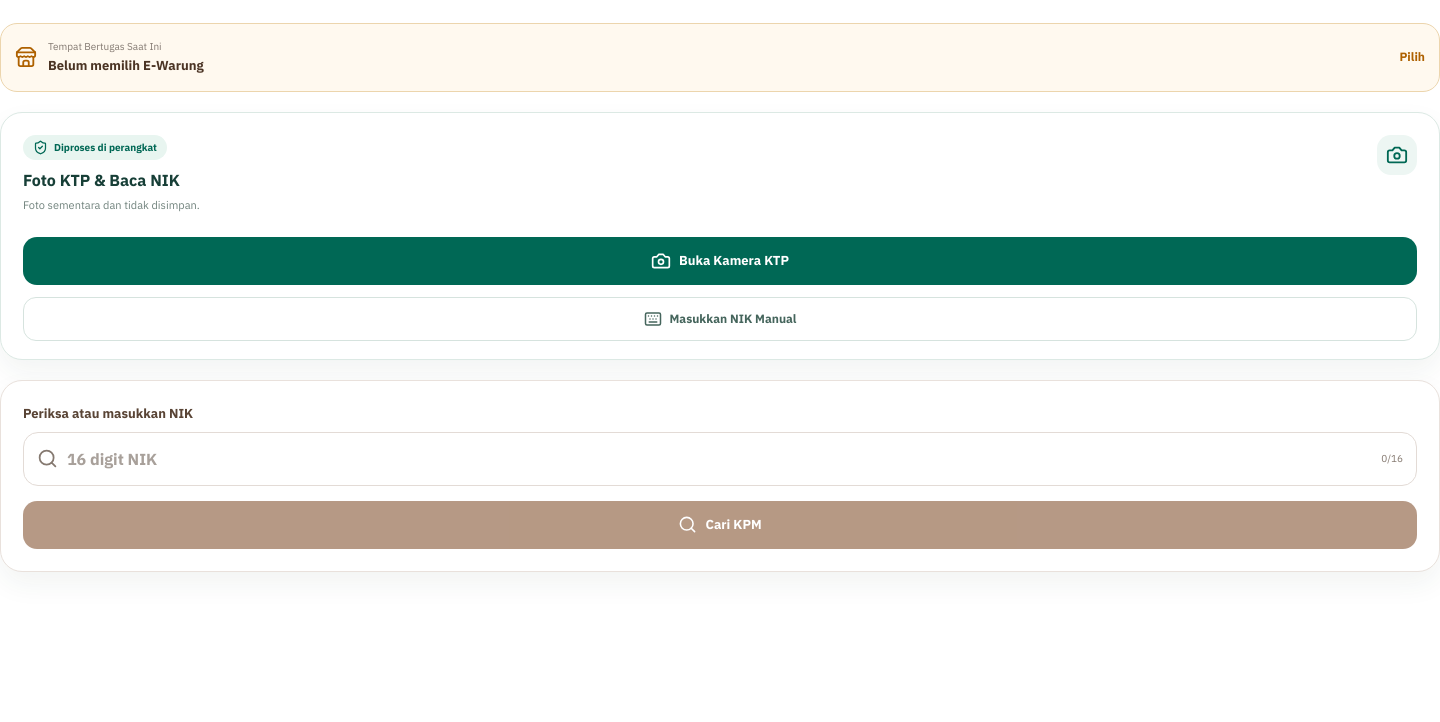
Test case: Surveyor final exact NIK lookup › hides transaction action for an already transacted KPM
This screenshot has width=1440, height=722.
In the field with test id "nik-input": (720, 459) [67,447,1372,471], type "3576010101010001"
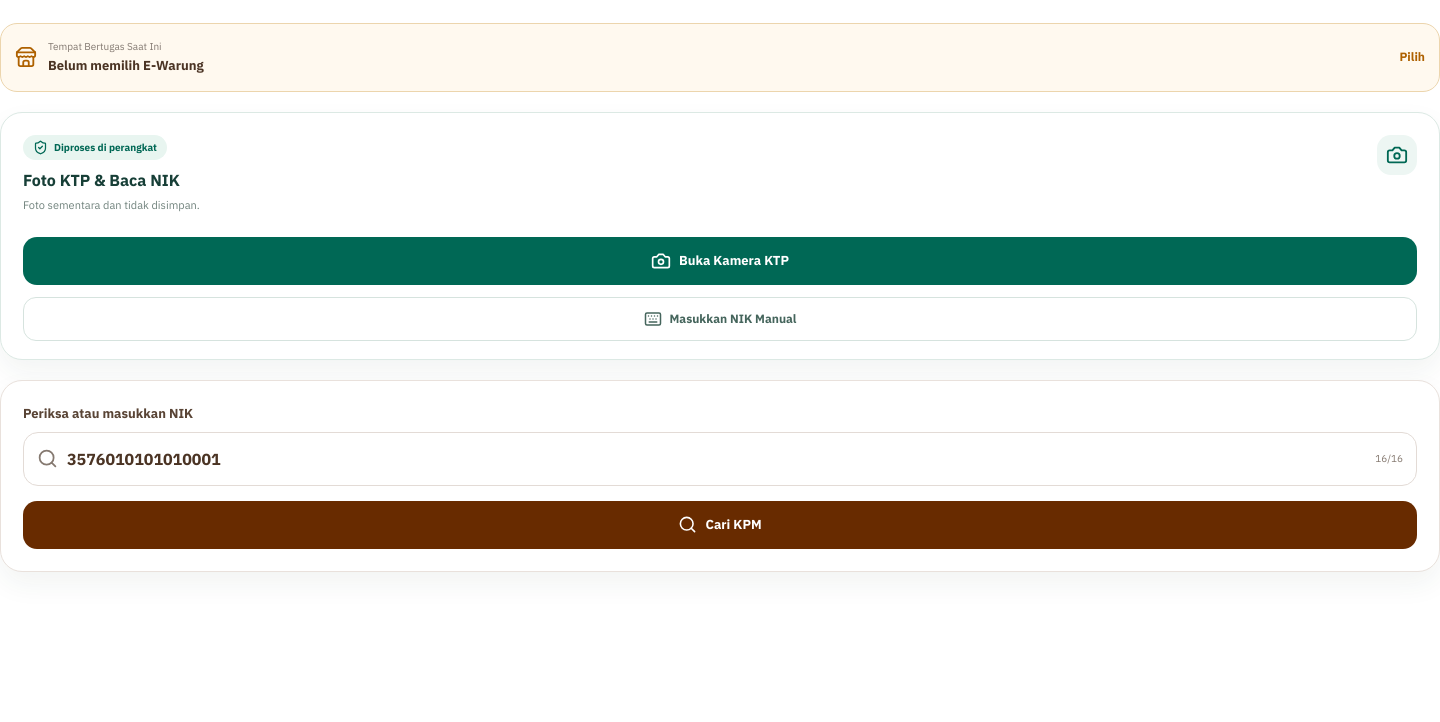
Submit the form, box [23,403,1417,549]
(page scrolled)
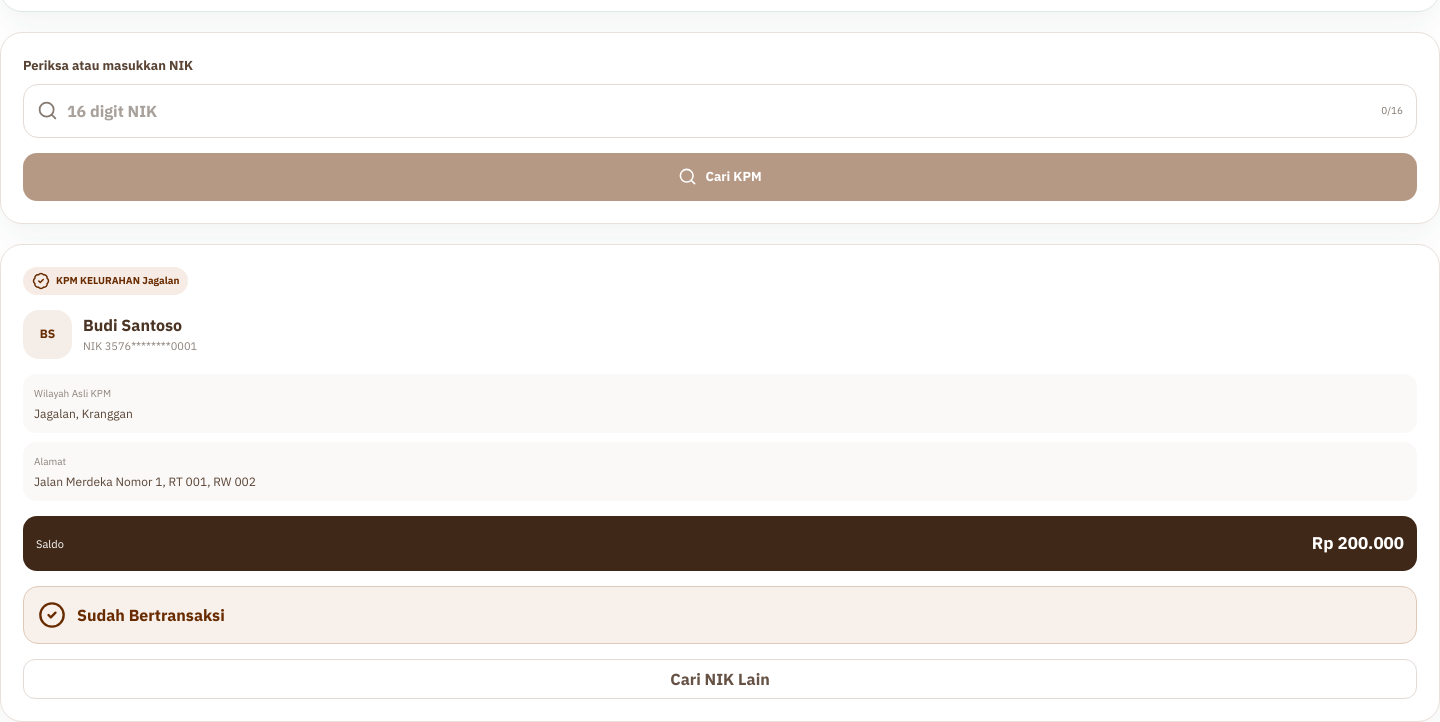
Now the element with test id "participant-final-status" is shown, box [23,586,1417,644]
Now the text "Sudah Bertransaksi" is shown, box [77,602,225,629]
